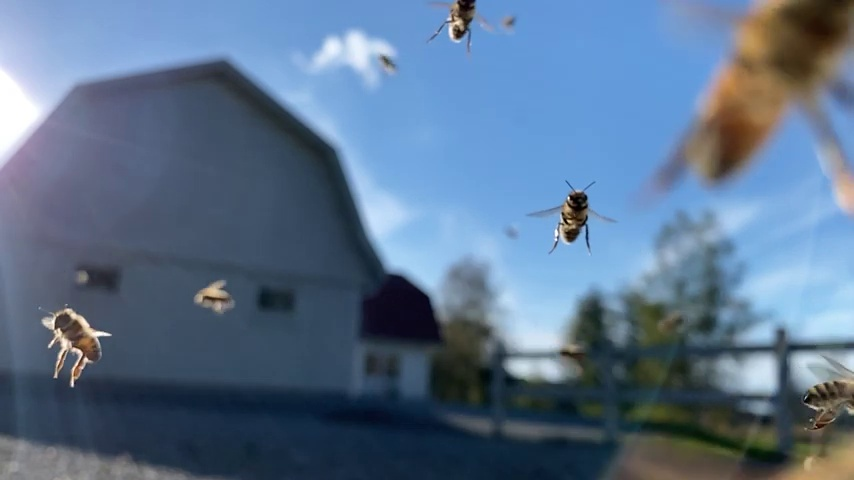insect: (658, 1, 854, 198), (519, 178, 617, 251), (34, 302, 112, 385), (797, 355, 854, 436), (422, 1, 491, 48), (193, 280, 235, 316)
